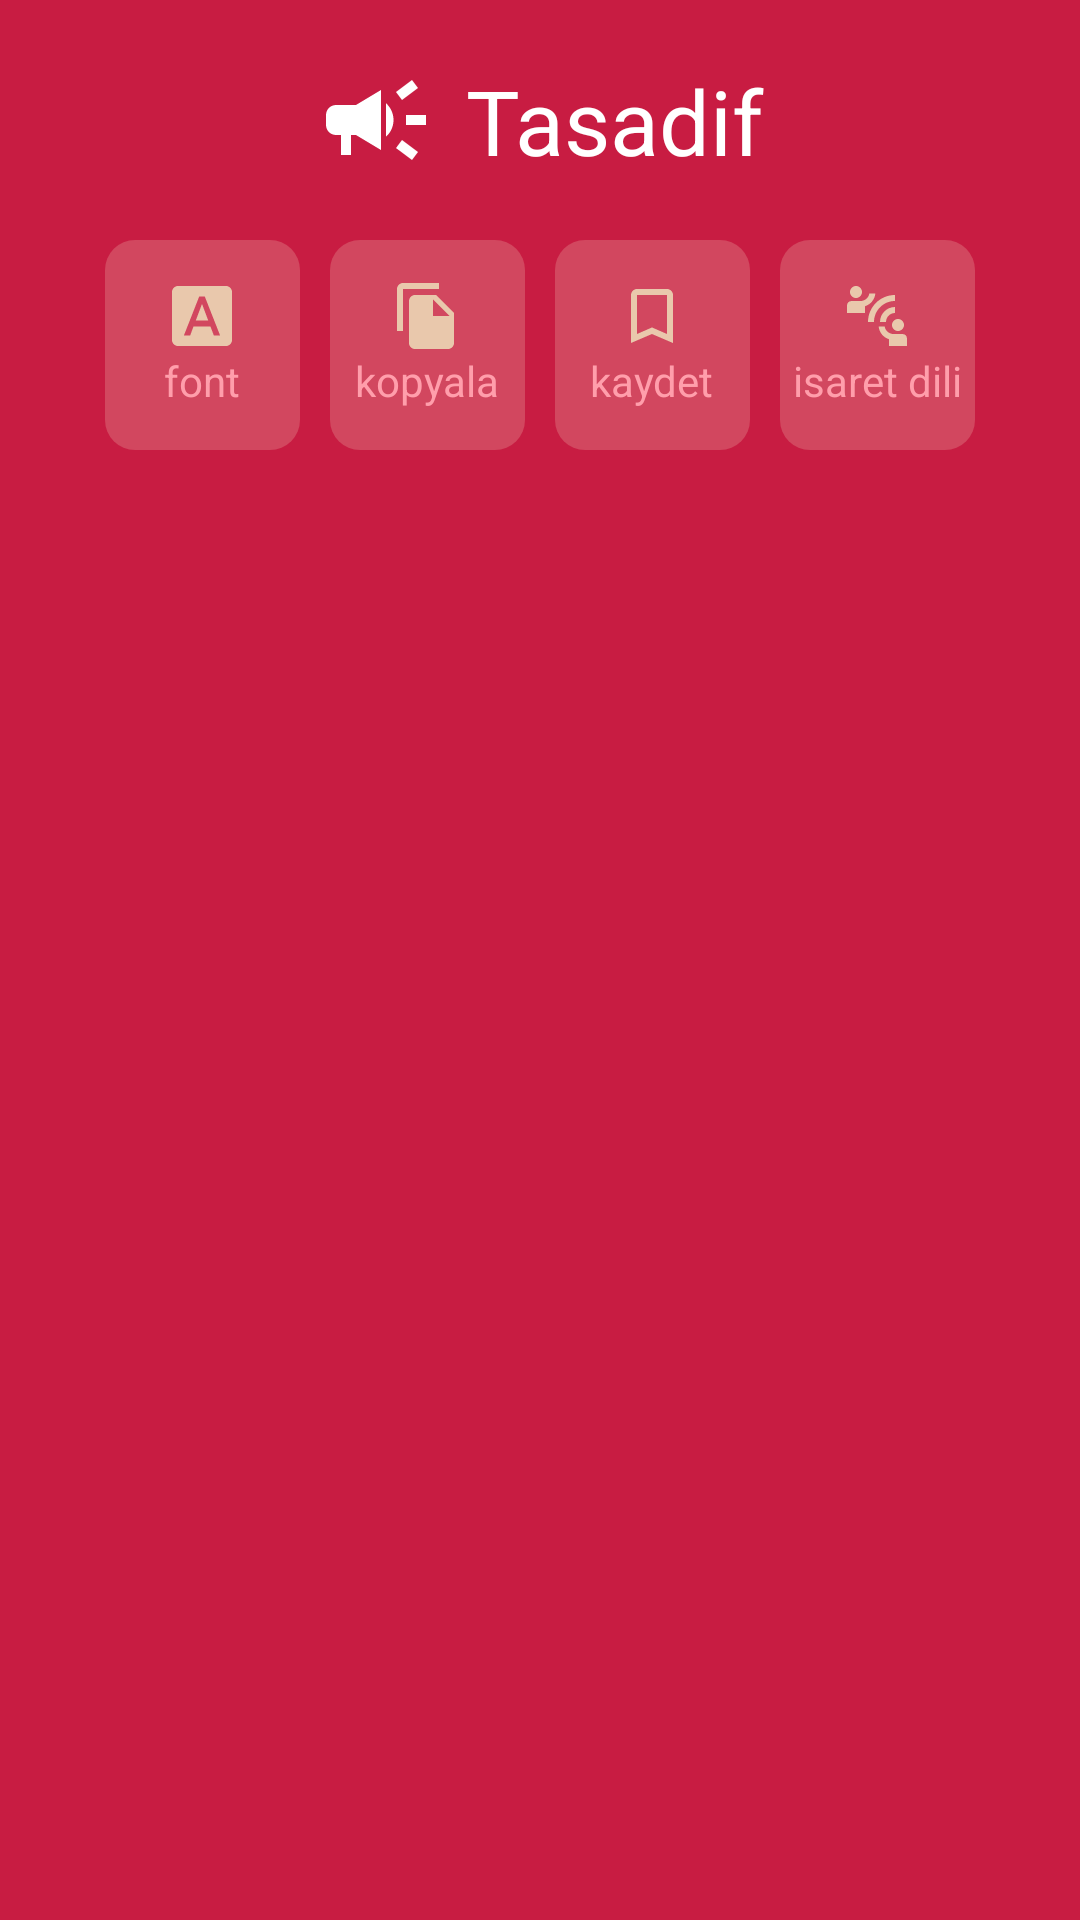

Screen size 1080*1920. Icon name, then its center in pixels as [x,y]:
bookmark border search: [652,316]
campaign for search: [376,120]
connect without contact: [877,316]
